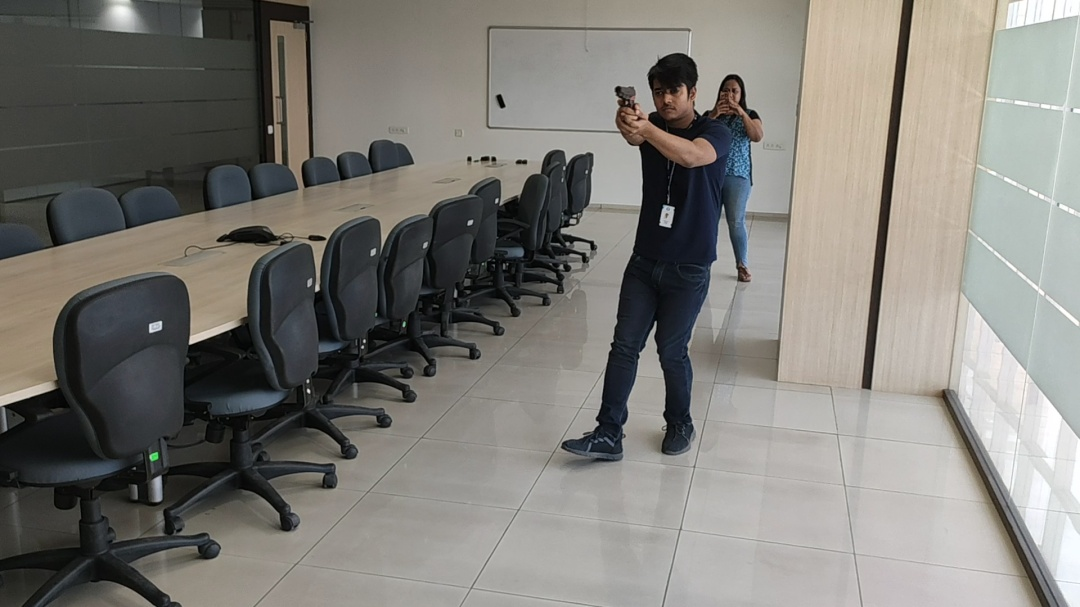gun: (607, 79, 639, 105)
